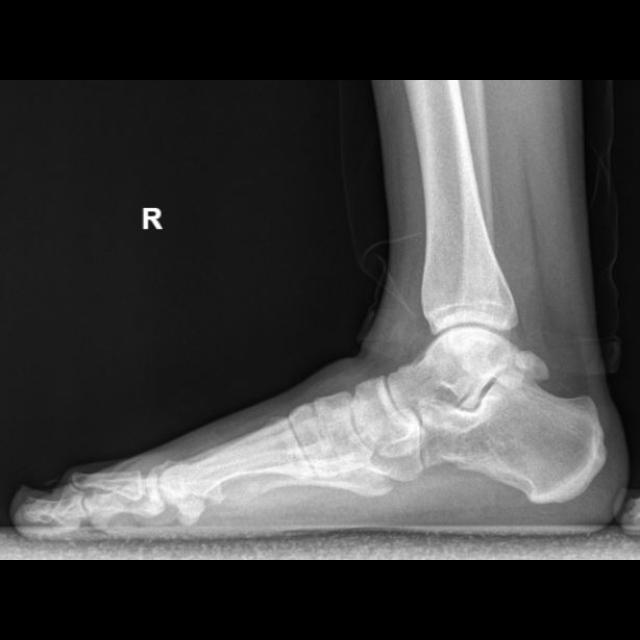a: (421, 371, 604, 501)
b: (352, 378, 420, 455)
c: (162, 419, 319, 522)
